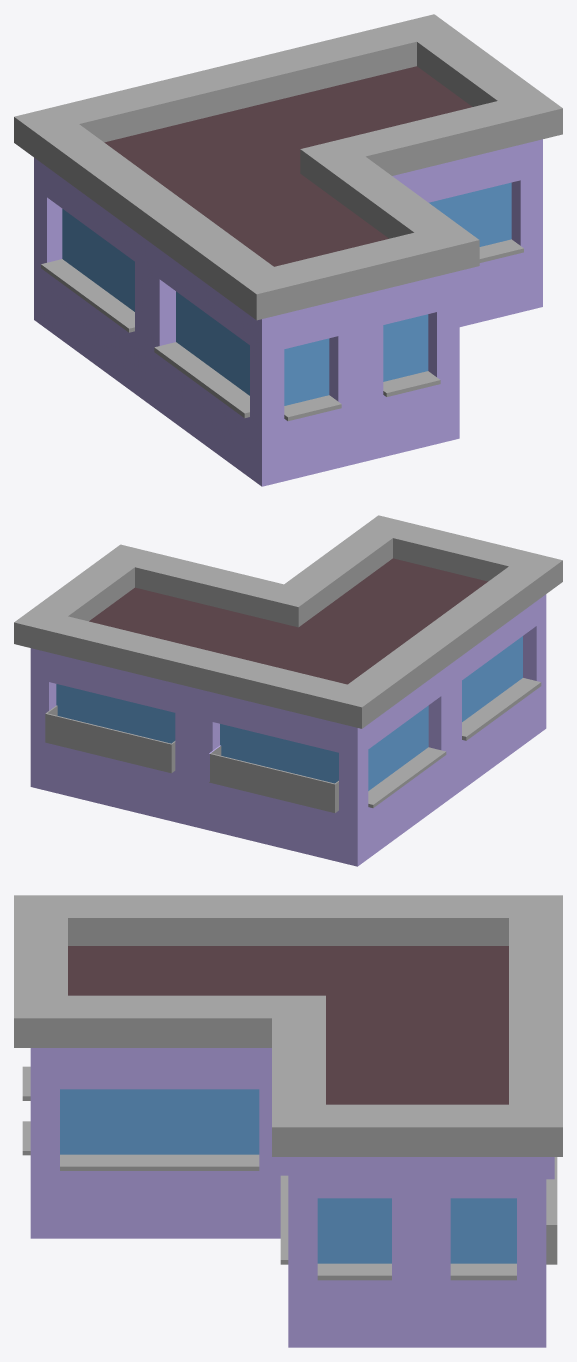
The model's file is building_L_5_r.glb.
The picture shows the model from 3 angles, top to bottom: view 1: azimuth 30°, elevation 25°; view 2: azimuth 150°, elevation 25°; view 3: azimuth 270°, elevation 25°; orthographic projection. The views are drawn at different scales.
Visible parts, largest first — view 1: Cube.002; view 2: Cube.002; view 3: Cube.002.
Boxes of the visible parts, left/top/right/bottom form: Cube.002: left=14, top=14, right=562, bottom=486; Cube.002: left=14, top=515, right=562, bottom=866; Cube.002: left=14, top=895, right=562, bottom=1347.
Size of the model in its own units: 3.62 by 1.65 by 3.62.
